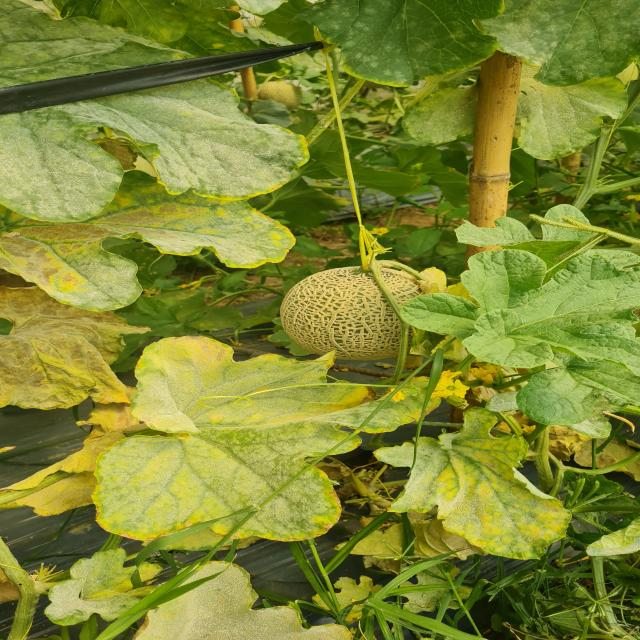melon: (280, 266, 400, 360), (382, 269, 420, 304)
